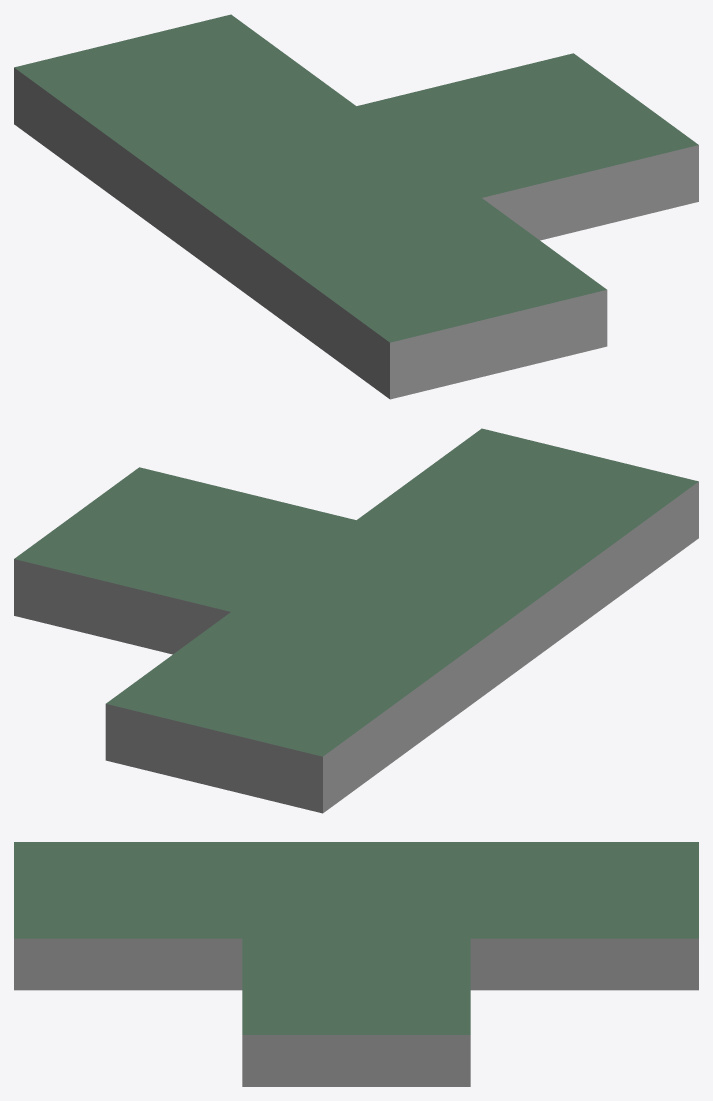
File: Lab_block_3Ways_Floor.fbx
The picture shows the model from 3 angles, top to bottom: view 1: azimuth 30°, elevation 25°; view 2: azimuth 150°, elevation 25°; view 3: azimuth 270°, elevation 25°; orthographic projection. The views are drawn at different scales.
Visible parts, largest first — view 1: Ways3_Floor; view 2: Ways3_Floor; view 3: Ways3_Floor.
Boxes of the visible parts, x1=… form: Ways3_Floor: x1=14, y1=14, x2=698, y2=399; Ways3_Floor: x1=14, y1=428, x2=698, y2=813; Ways3_Floor: x1=14, y1=842, x2=698, y2=1086.
Bounding box in the file's own units: 4 × 0.5 × 6.
